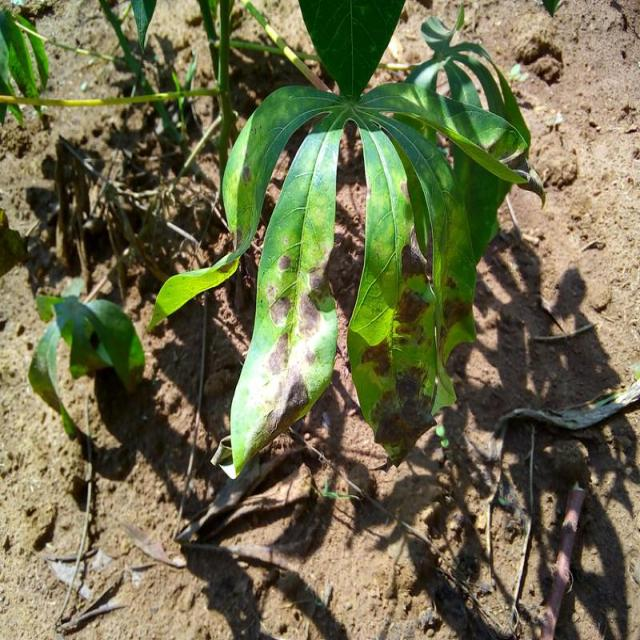cassava leaf: (148, 0, 545, 479), (214, 121, 344, 478)
